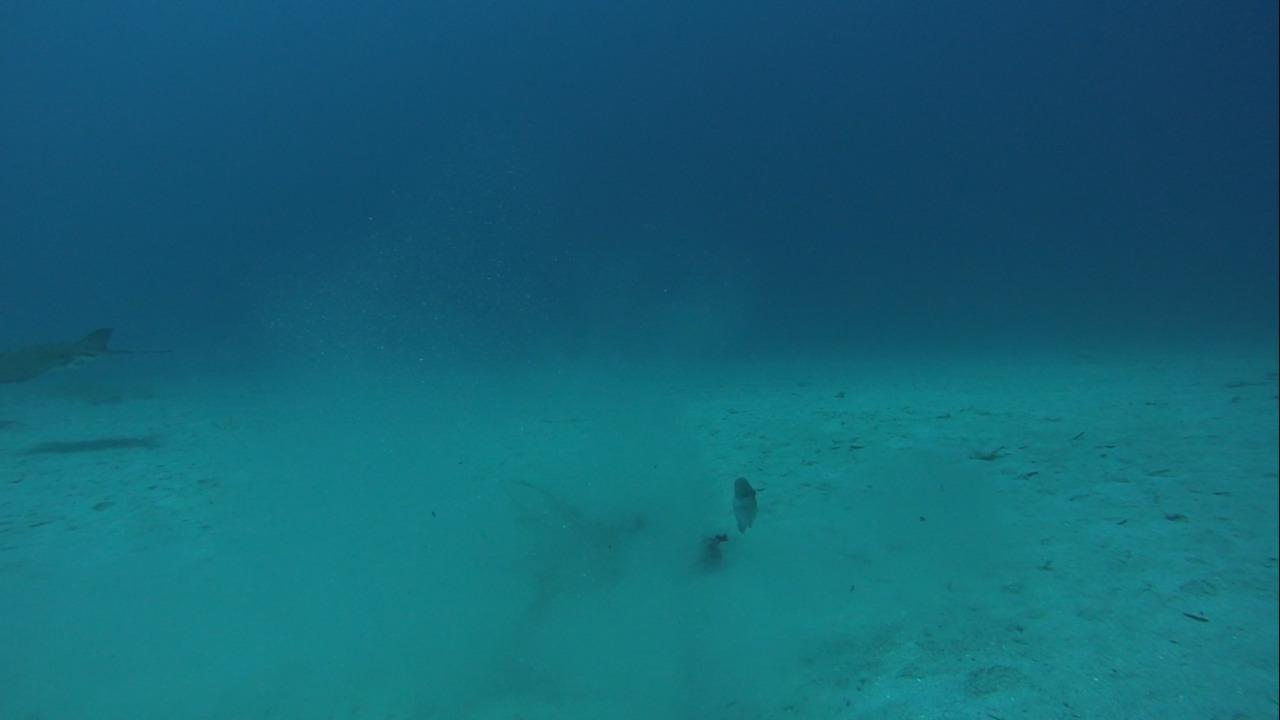myliobatis: (6, 319, 194, 400)
raor: (720, 465, 765, 543)
